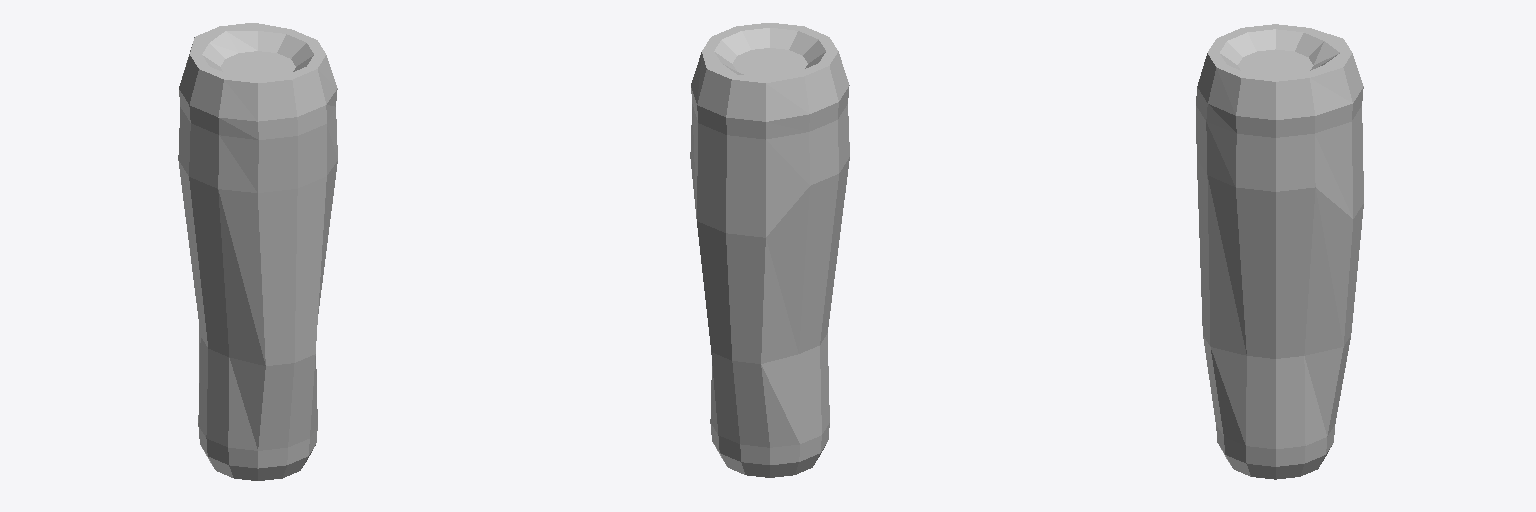
File: dummyupperleg.obj
3 views of the same model, side by side, from view 1: azimuth 30°, elevation 25°; view 2: azimuth 150°, elevation 25°; view 3: azimuth 270°, elevation 25° (orthographic).
Visible parts, largest first — view 1: dummy_hips3_dummy_lpelvis_dummy_lupleg.001; view 2: dummy_hips3_dummy_lpelvis_dummy_lupleg.001; view 3: dummy_hips3_dummy_lpelvis_dummy_lupleg.001.
Part boxes in pixels (x1,y1,x2,y2): dummy_hips3_dummy_lpelvis_dummy_lupleg.001: (178,23,337,480); dummy_hips3_dummy_lpelvis_dummy_lupleg.001: (690,23,849,477); dummy_hips3_dummy_lpelvis_dummy_lupleg.001: (1196,24,1363,479).
Size of the model in its own units: 14.69 by 41.21 by 15.48.